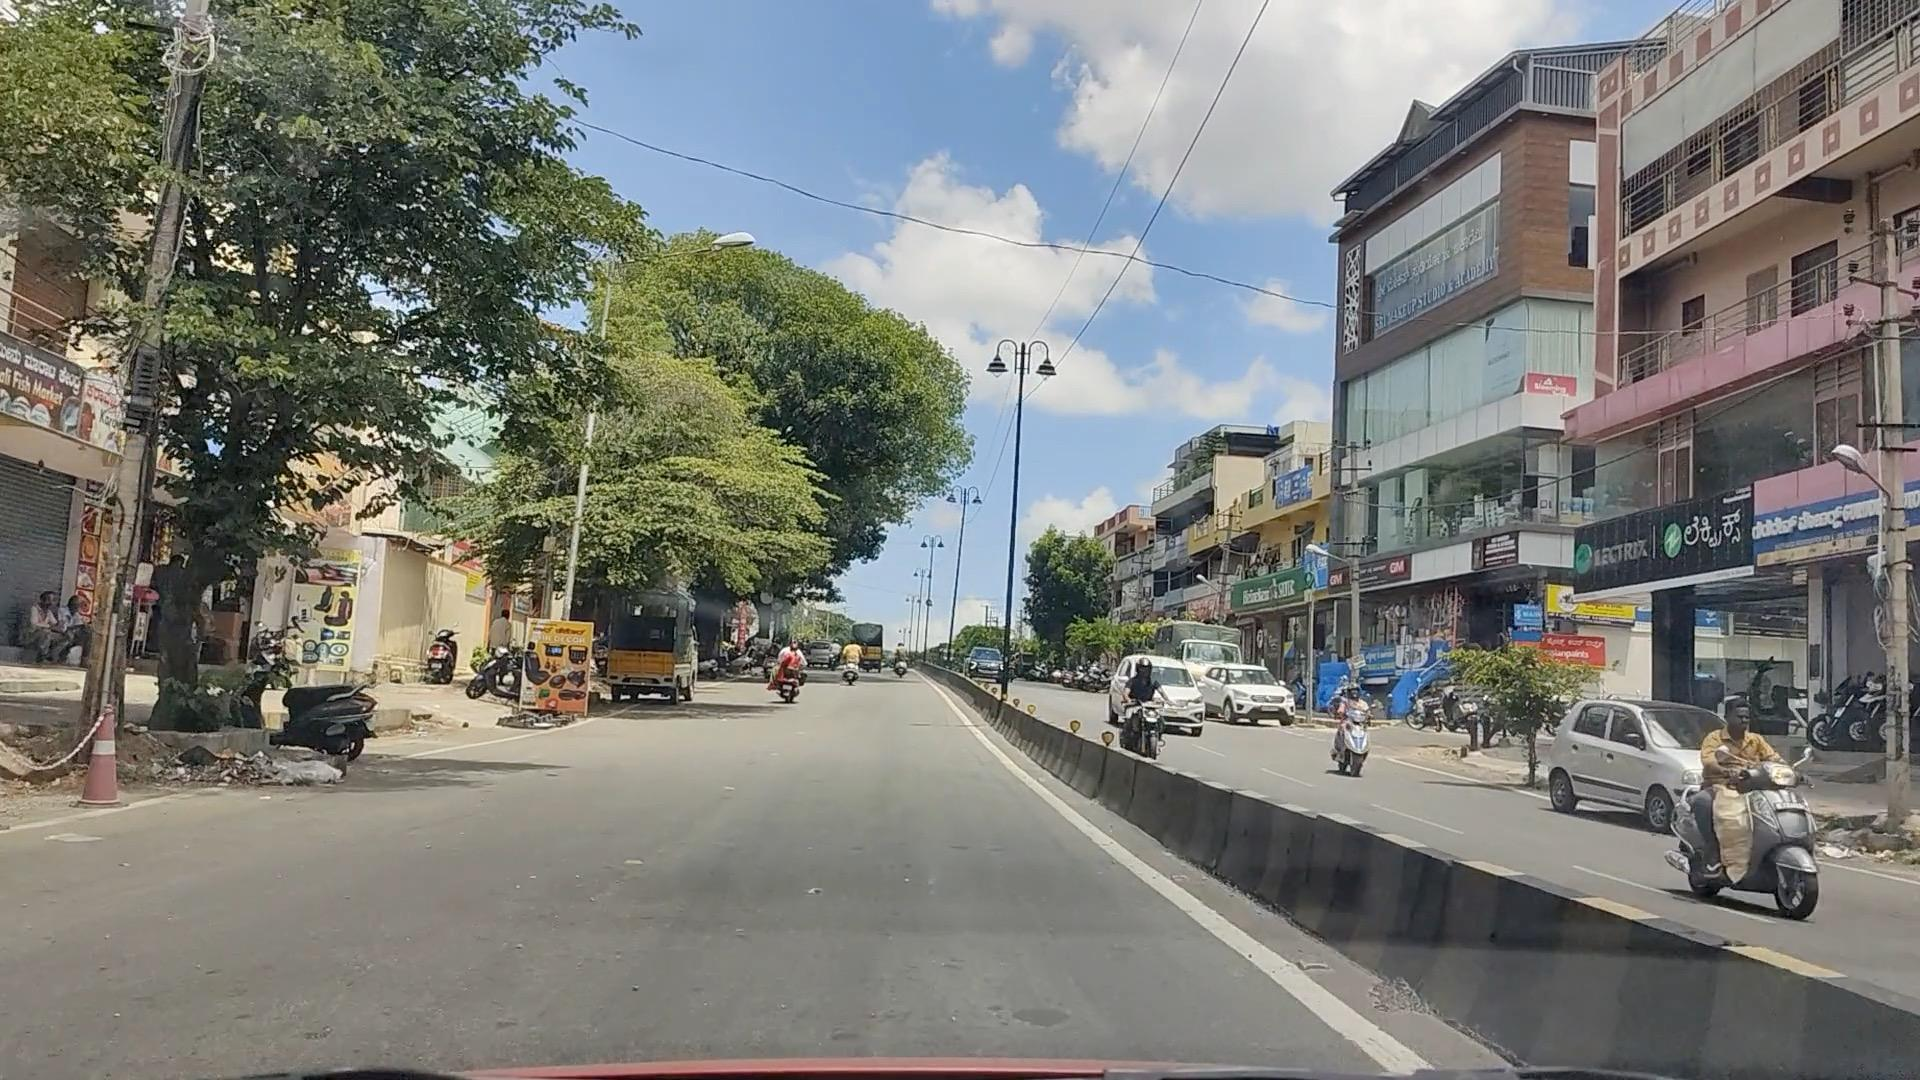HMV: (596, 574, 690, 720)
